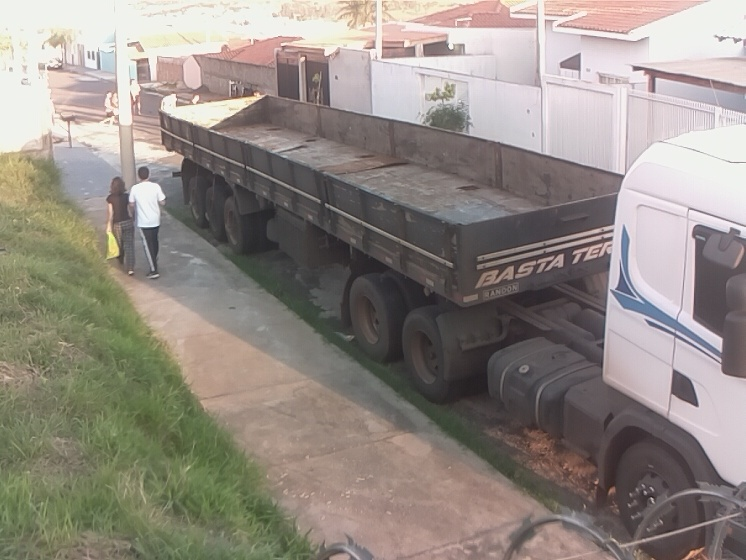person: (127, 166, 169, 280), (104, 175, 136, 277), (97, 89, 116, 129), (129, 78, 144, 118), (159, 90, 179, 113)
